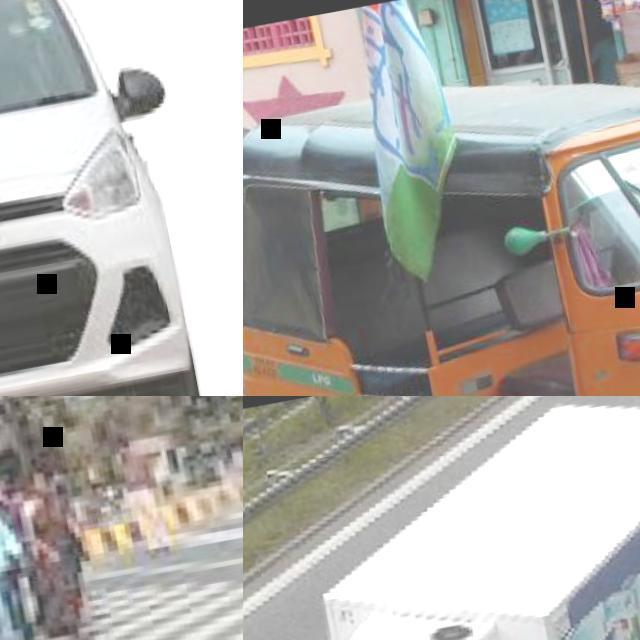car: (322, 399, 639, 639)
